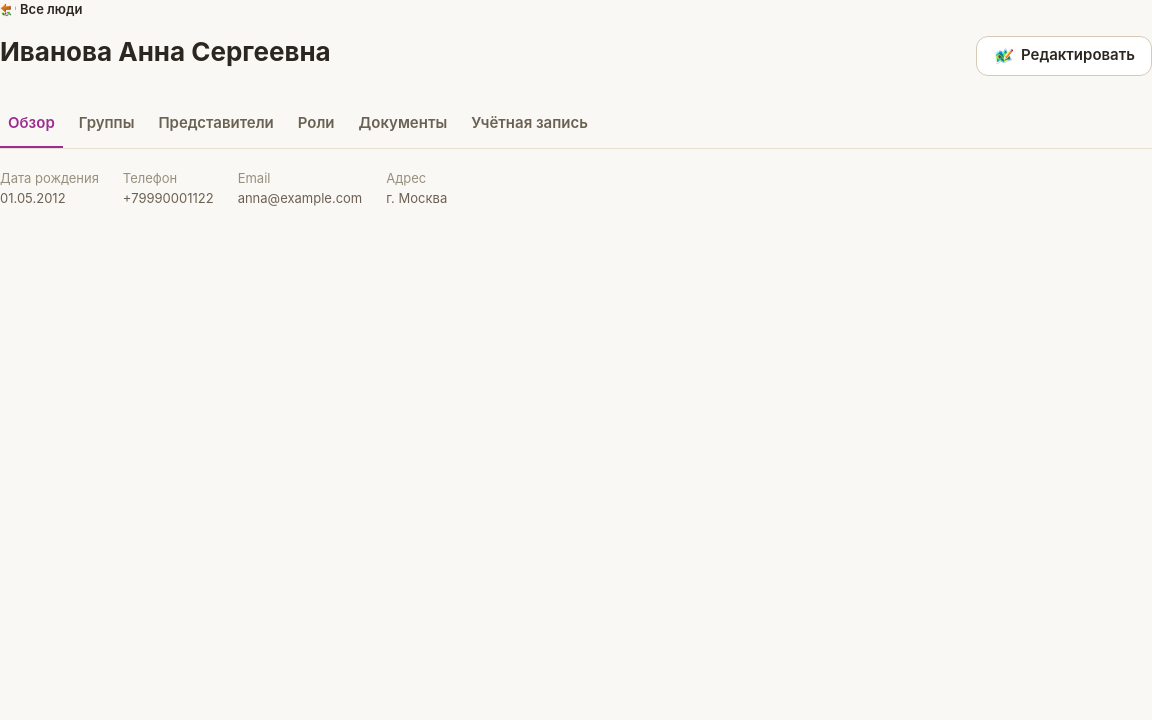
Test: PersonDetailPage › does not offer birth_date editing to a non-admin role
Step 1. Click the button "Редактировать" → (1064, 56), box [976,36,1151,76]
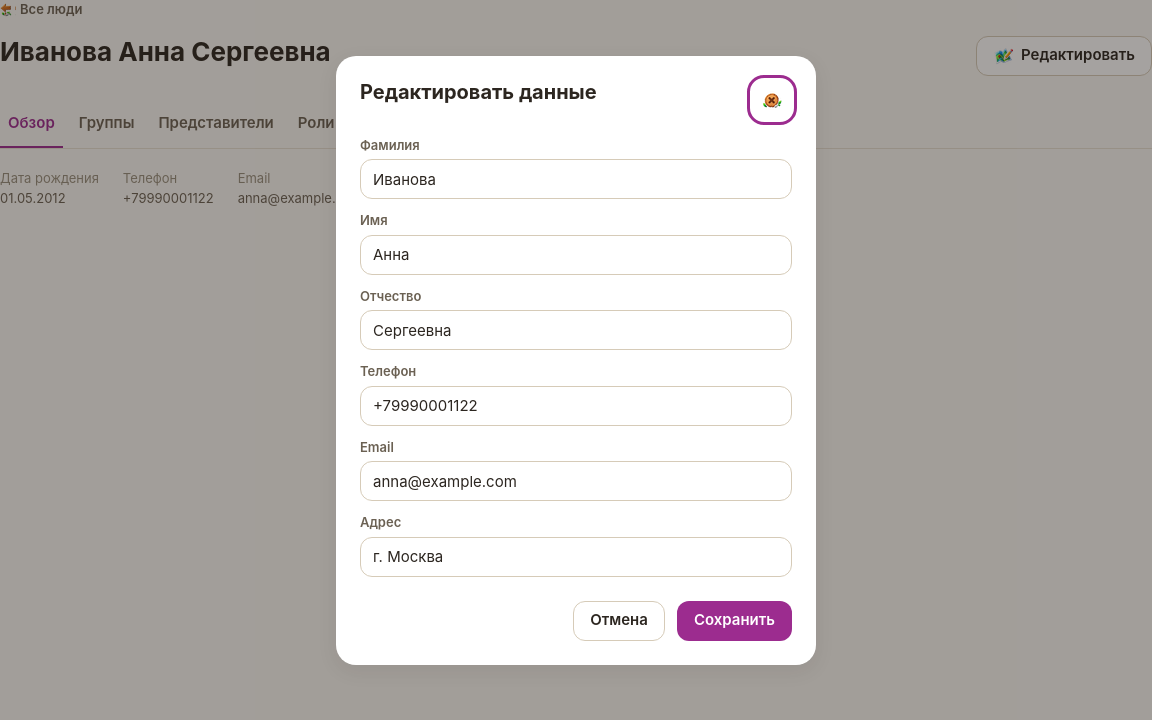
Check: the dialog "Редактировать данные" is shown, box [336,56,816,664]
